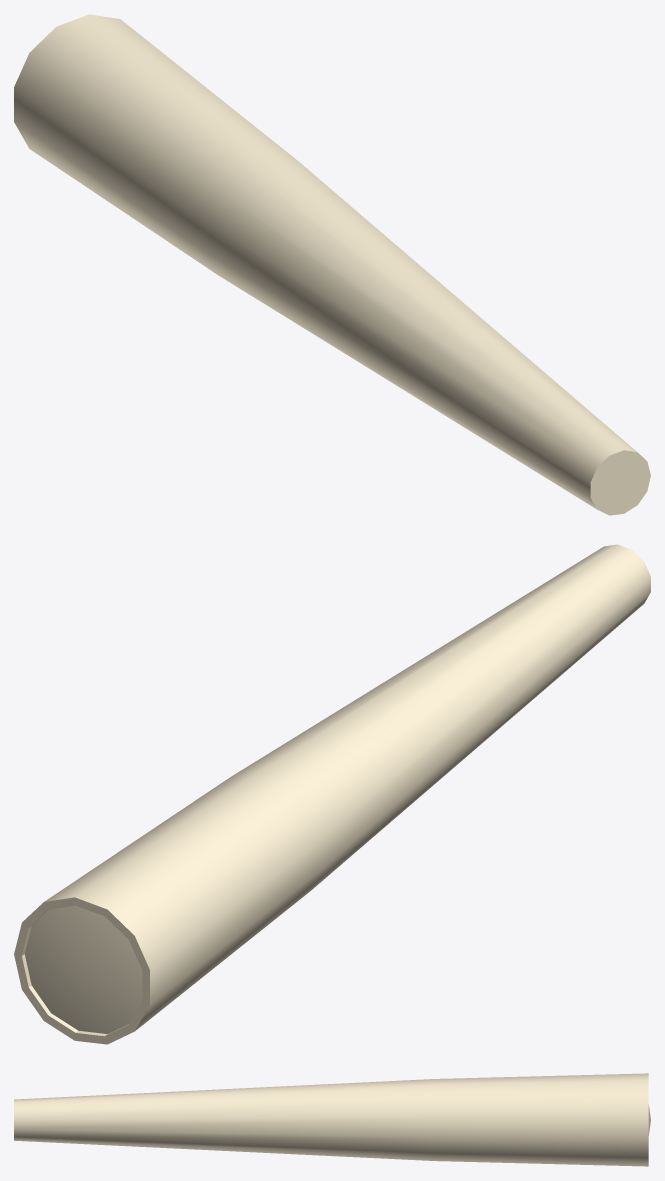
Rendered from weed_01.FBX.
3 renders of one model, top to bottom at view 1: azimuth 30°, elevation 25°; view 2: azimuth 150°, elevation 25°; view 3: azimuth 270°, elevation 25°, orthographic. The views are drawn at different scales.
Visible parts, largest first — view 1: Cylinder050; view 2: Cylinder050; view 3: Cylinder050.
Boxes of the visible parts, x1,y1,x2,y2 form: Cylinder050: [14, 14, 650, 515]; Cylinder050: [14, 544, 650, 1044]; Cylinder050: [14, 1073, 650, 1166].
Size of the model in its own units: 1.83 by 1.84 by 12.58.
